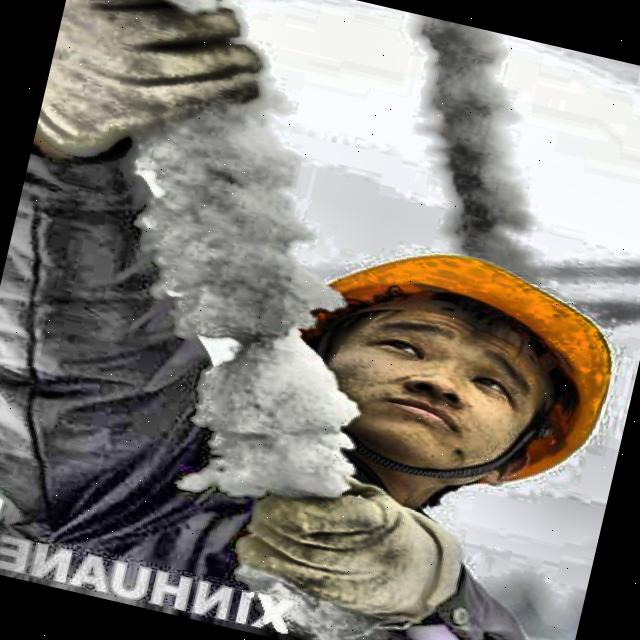helmet: (185, 182, 640, 542)
